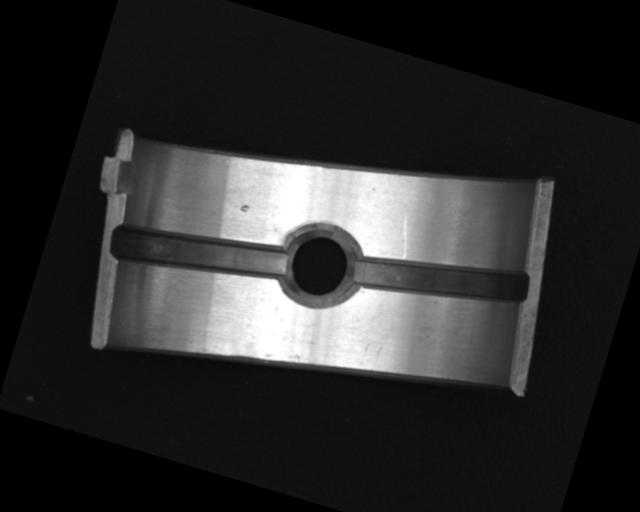bruise: (239, 203, 251, 214)
gap: (348, 225, 532, 333), (107, 202, 291, 305)
hole: (272, 214, 370, 318)
nick: (391, 213, 417, 260)
